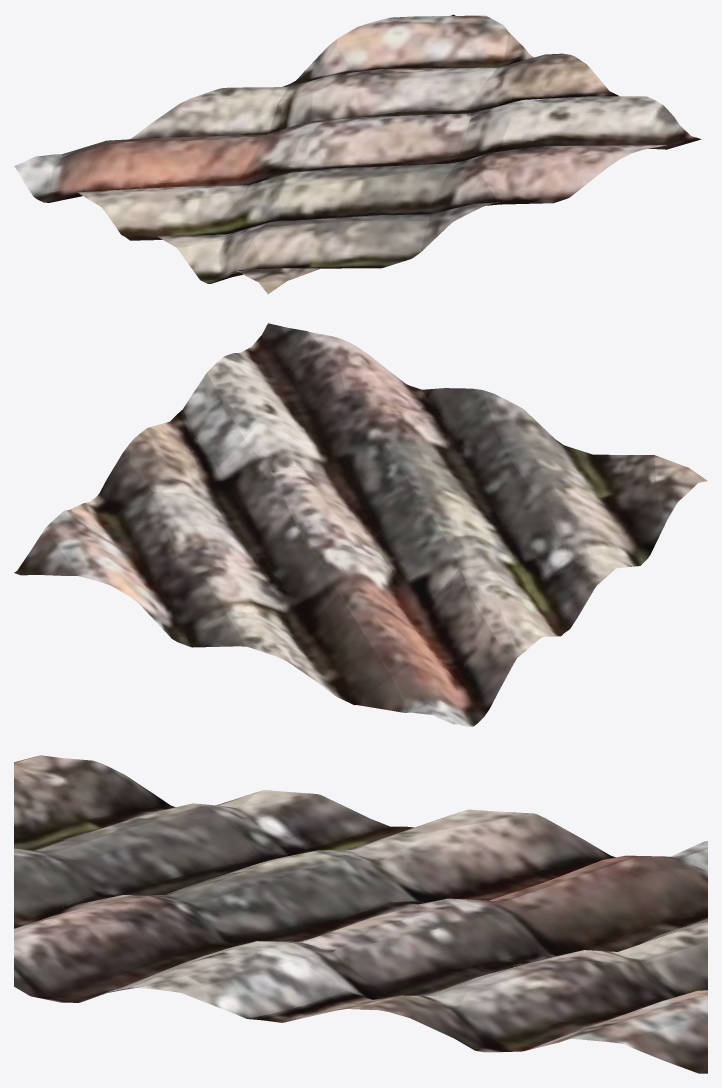
3 renders of one model, top to bottom at view 1: azimuth 30°, elevation 25°; view 2: azimuth 150°, elevation 25°; view 3: azimuth 270°, elevation 25°, orthographic. The views are drawn at different scales.
Bounding box in the file's own units: 0.8374 × 0.2312 × 0.8374.
Materials: 3 (3 with a texture image).
